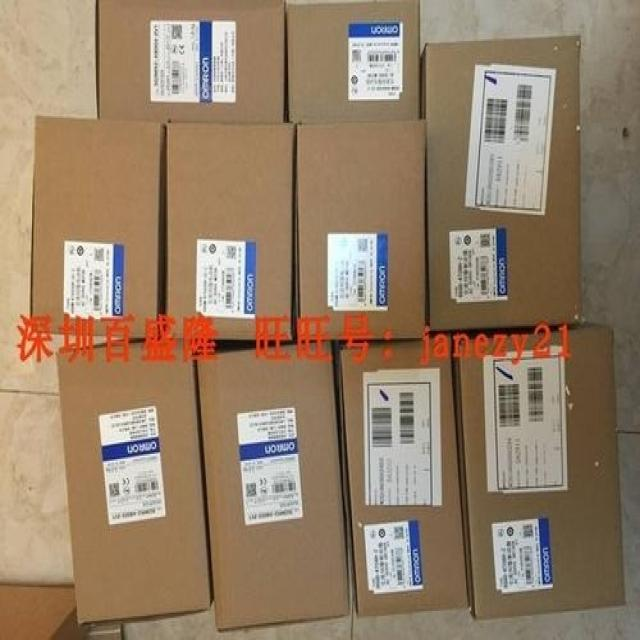box: (456, 328, 624, 618), (420, 37, 580, 332), (56, 339, 213, 630), (196, 343, 352, 633), (337, 334, 468, 616), (30, 115, 166, 339), (167, 121, 297, 341), (297, 121, 427, 339), (96, 1, 285, 120), (285, 1, 420, 121)
